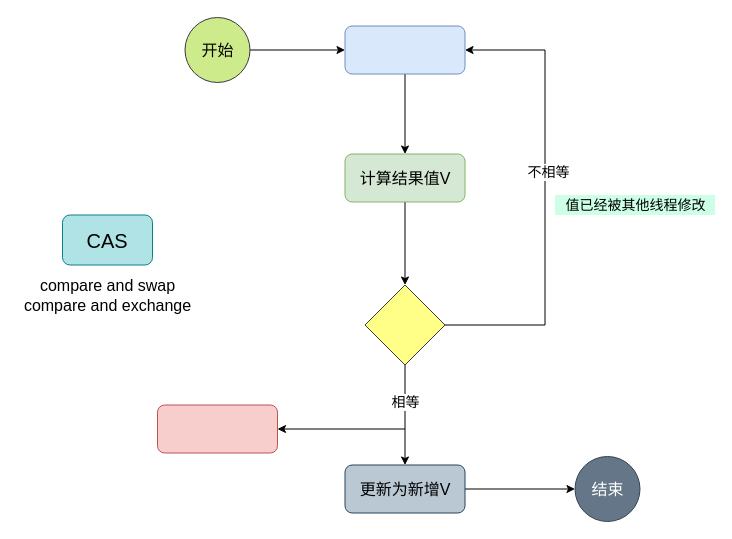
The diagram is 732 pixels wide and 539 high, and some of its shapes have lost their labels. Here are the shapes that lost their labels. From the top down, the box of each, then its label:
(344, 25, 465, 74): 读取当前值E
(364, 284, 445, 365): 比较E 和当前 新值N
(156, 404, 278, 453): ABA问题
